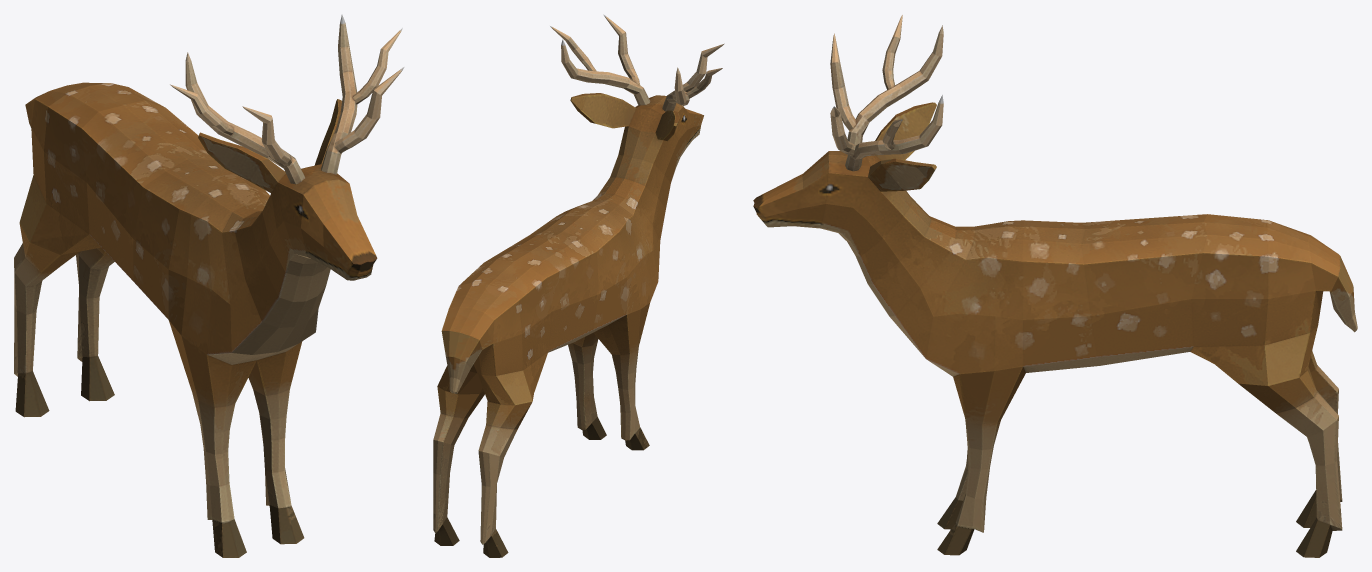
Rendered from VisayanSpotteDeer.fbx.
3 views of the same model, side by side, from view 1: azimuth 30°, elevation 25°; view 2: azimuth 150°, elevation 25°; view 3: azimuth 270°, elevation 25° (orthographic). The views are drawn at different scales.
Parts seen in each view (by area): view 1: VisayanSpotteDeer; view 2: VisayanSpotteDeer; view 3: VisayanSpotteDeer.
Part boxes in pixels (box(x1,y1,x2,y2)): VisayanSpotteDeer: box(14, 14, 404, 557); VisayanSpotteDeer: box(433, 14, 724, 557); VisayanSpotteDeer: box(753, 15, 1357, 557).
Bounding box in the file's own units: 46.26 × 97.92 × 112.
